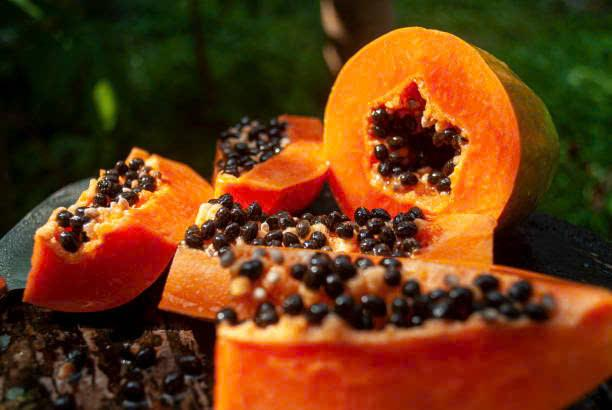papaya: (217, 241, 612, 407), (319, 20, 529, 250), (22, 146, 169, 311), (205, 113, 329, 218)
